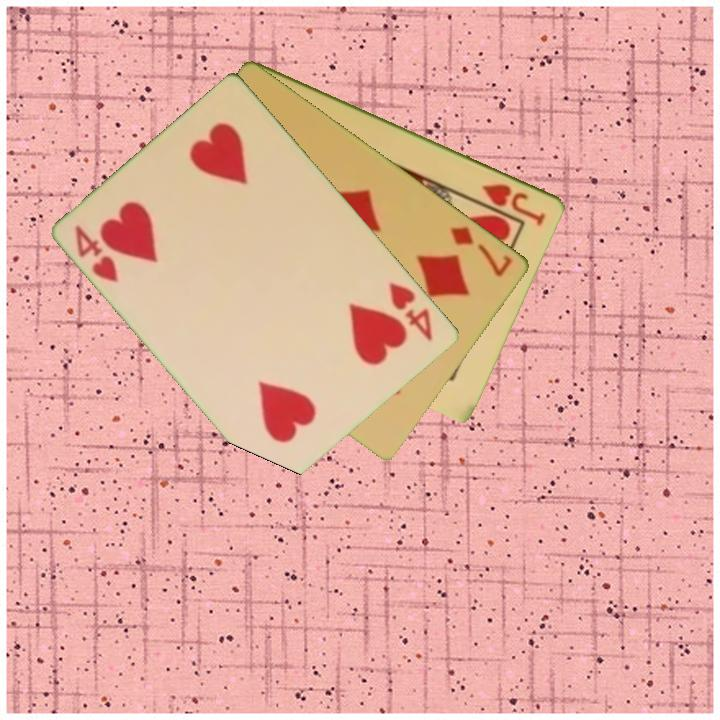4h: (385, 278, 436, 344), (71, 221, 122, 286)
7d: (447, 222, 516, 280)
Jh: (479, 179, 549, 228)
